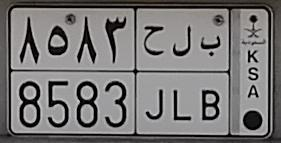3: (103, 16, 128, 128)
5: (47, 24, 70, 129)
8: (18, 15, 42, 128), (76, 16, 100, 128)
B: (200, 35, 221, 122)
J: (143, 24, 165, 120)
L: (171, 24, 195, 123)
